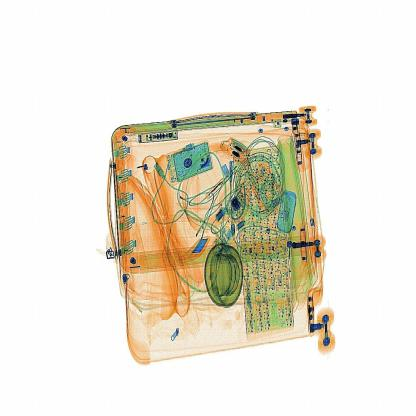pliers: (180, 231, 218, 273)
